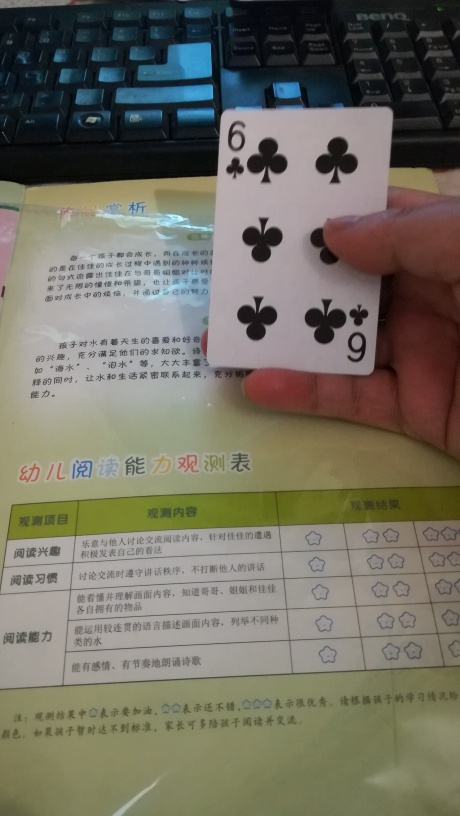mh 6: (211, 108, 386, 380)
